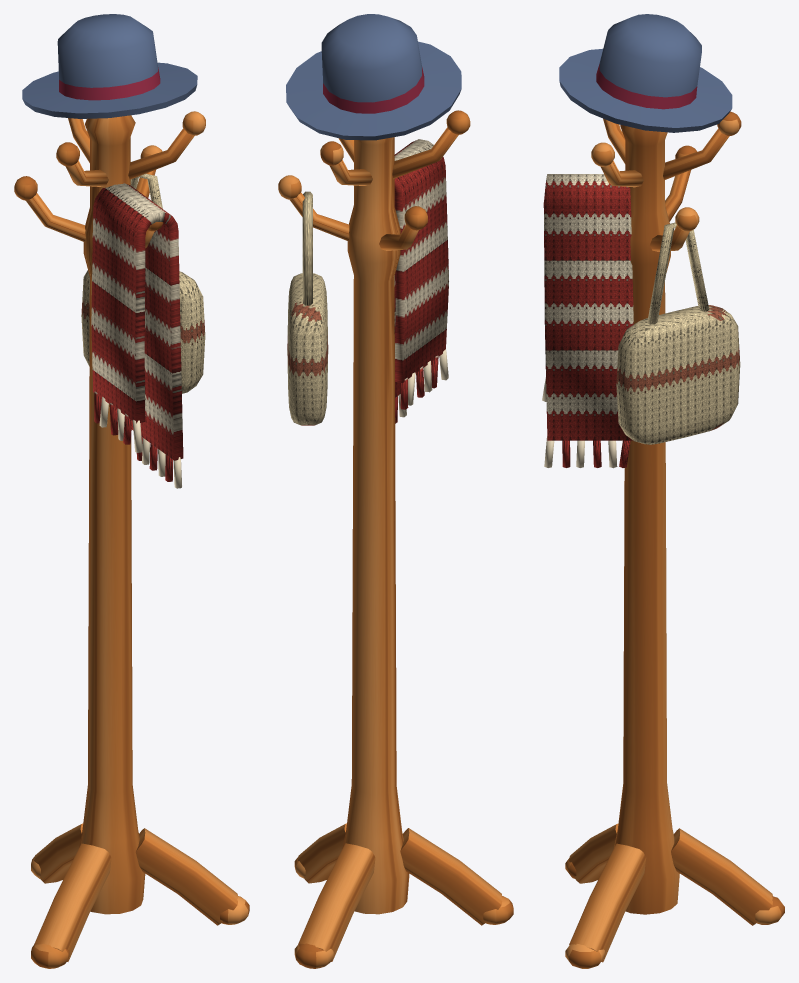
The model's file is coat_rack.glb.
3 views of the same model, side by side, from view 1: azimuth 30°, elevation 25°; view 2: azimuth 150°, elevation 25°; view 3: azimuth 270°, elevation 25° (orthographic).
Parts seen in each view (by area): view 1: model; view 2: model; view 3: model.
Boxes of the visible parts, box(x1,y1,x2,y2) form: model: box(14, 14, 249, 968); model: box(278, 14, 513, 968); model: box(542, 14, 784, 968).
Bounding box in the file's own units: 0.4812 × 1.95 × 0.4763.
6 materials, 3 textured.
